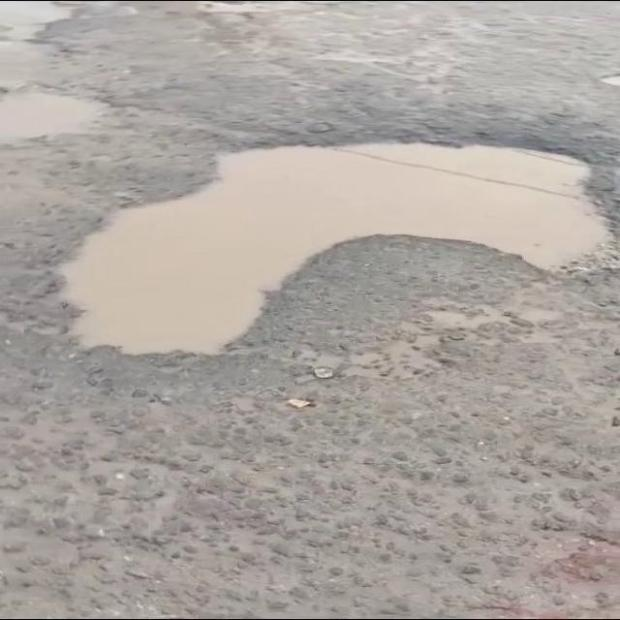lubang: (60, 143, 607, 355), (0, 91, 110, 146)
